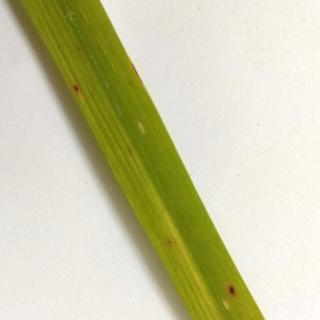bercak-Cokelat: (224, 280, 246, 296), (68, 80, 86, 96)
